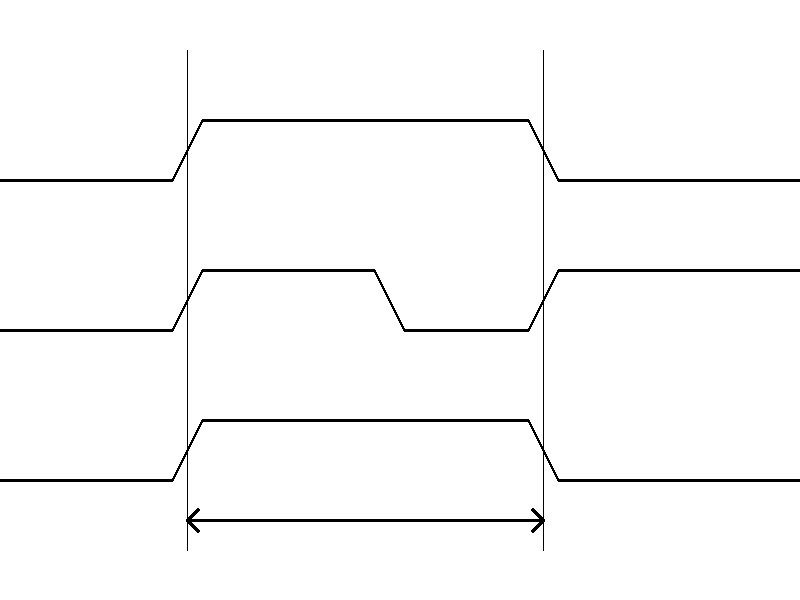double_arrow: (187, 505, 543, 535)
